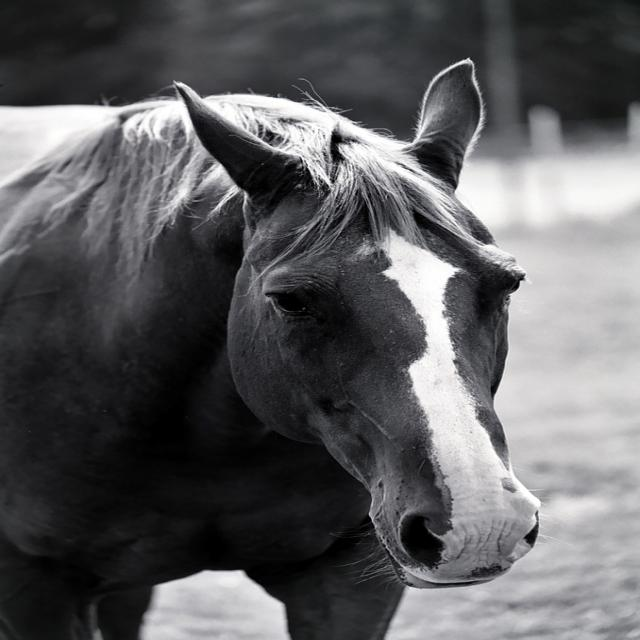Horse: (0, 56, 579, 640)
